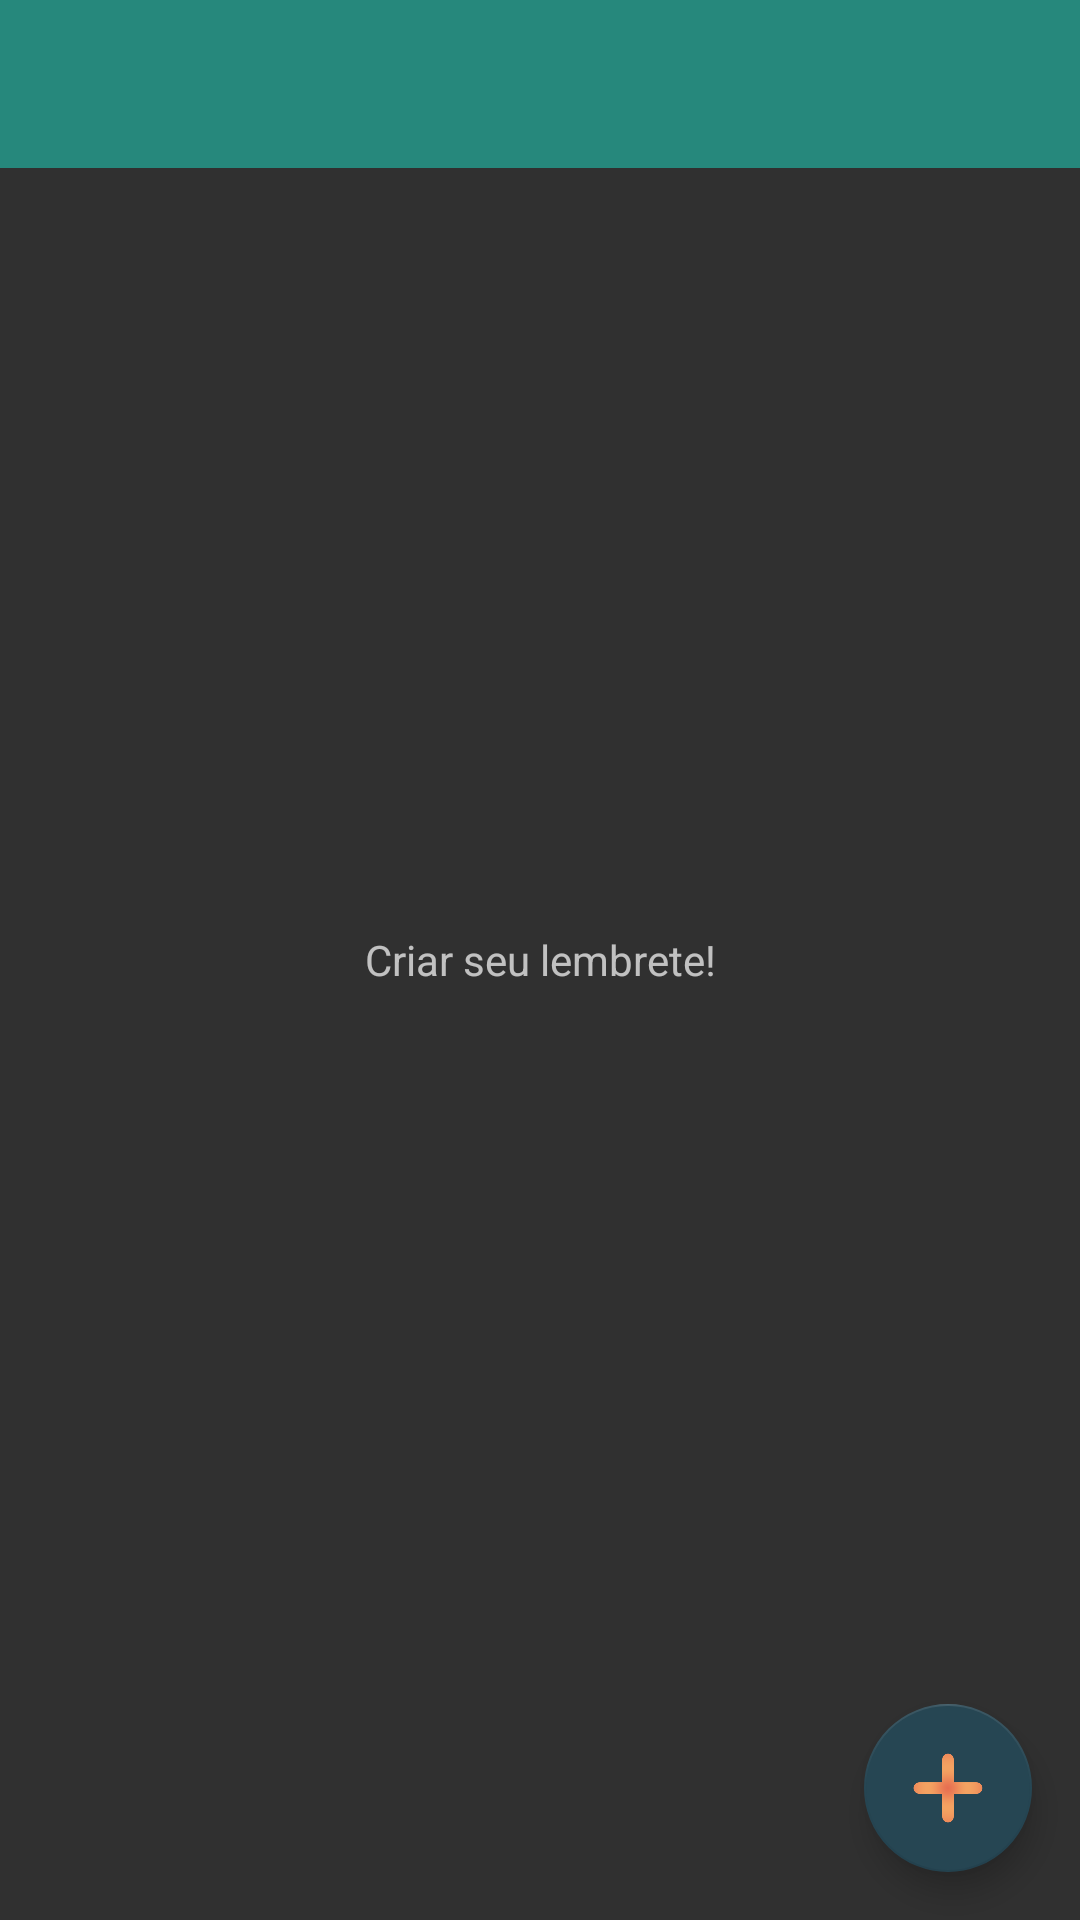

Icon click points for this 1080px x 1920px phone screenshot, format [x,y]:
addmais: [948,1788]
